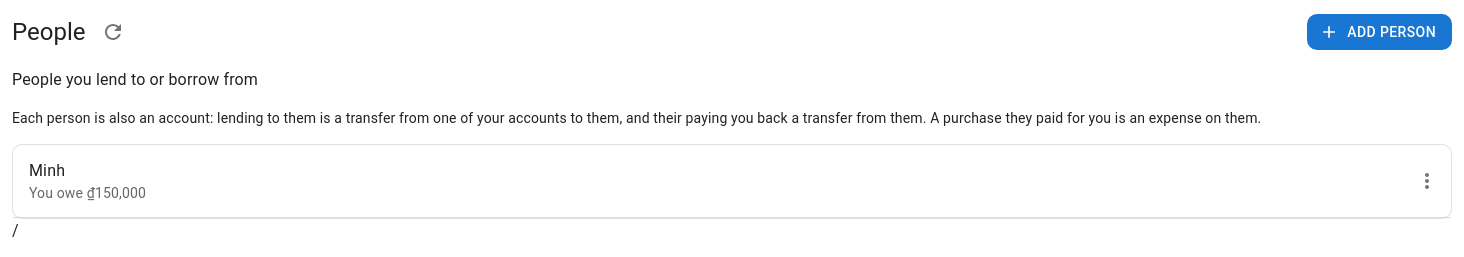
people are accounts (waterflow#85) › shows who owes whom, and opens their transactions
Expected: the text "You owe ₫150,000" is shown, [29,185,146,201]
Click the text "Minh".
click(47, 171)  # box [29,159,65,183]
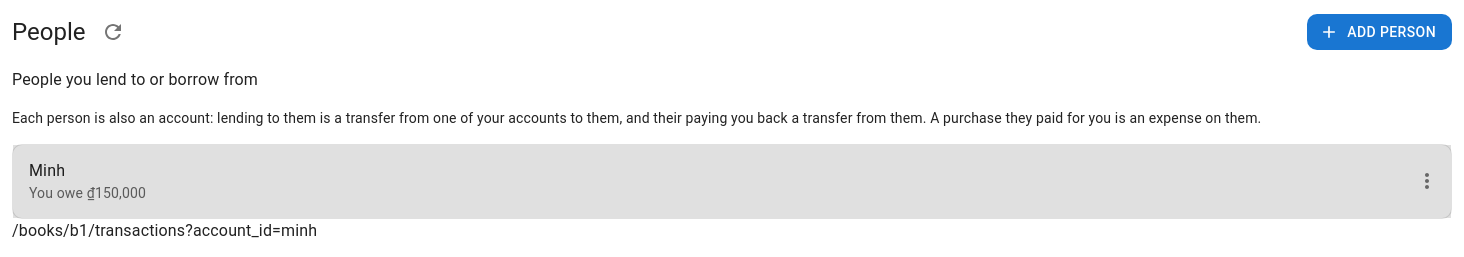
Expected: the text with test id "where" reads "/books/b1/transactions?account_id=minh", [12,221,317,240]
